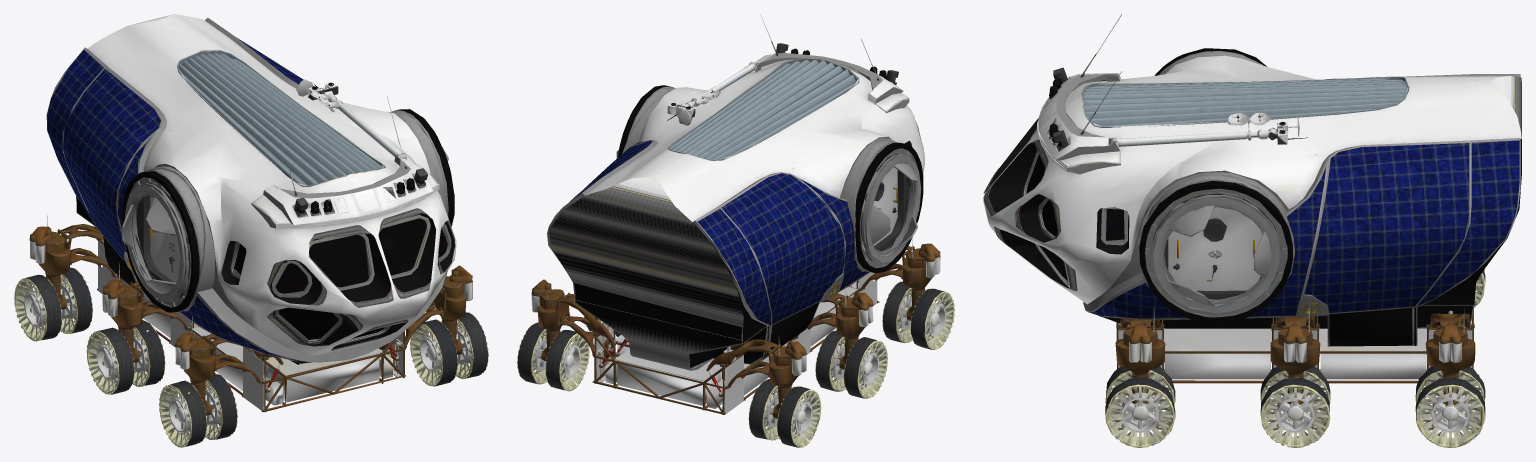
File: rover-lite.glb
3 renders of one model, left to right at view 1: azimuth 30°, elevation 25°; view 2: azimuth 150°, elevation 25°; view 3: azimuth 270°, elevation 25°, orthographic. The views are drawn at different scales.
Visible parts, largest first — view 1: MMSEV; view 2: MMSEV; view 3: MMSEV.
Part boxes in pixels (x1,y1,x2,y2): MMSEV: [14, 14, 488, 447]; MMSEV: [517, 15, 954, 447]; MMSEV: [983, 14, 1521, 447].
Bounding box in the file's own units: 4.04 × 3.97 × 5.91.
Materials: 1 (1 with a texture image).
